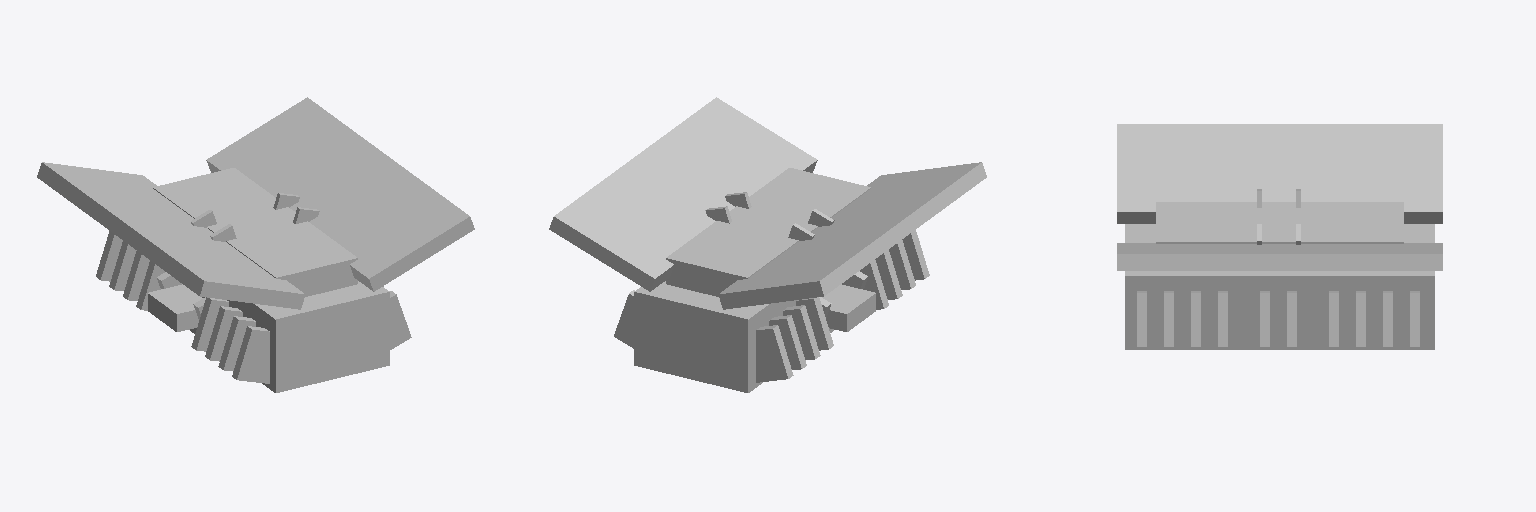
The model's file is solar.obj.
3 views of the same model, side by side, from view 1: azimuth 30°, elevation 25°; view 2: azimuth 150°, elevation 25°; view 3: azimuth 270°, elevation 25° (orthographic).
Parts seen in each view (by area): view 1: Box004; view 2: Box004; view 3: Box004.
Part boxes in pixels (x1,y1,x2,y2): Box004: (37, 97, 474, 392); Box004: (549, 97, 986, 392); Box004: (1117, 124, 1442, 349).
Size of the model in its own units: 68.58 by 31.8 by 70.18.